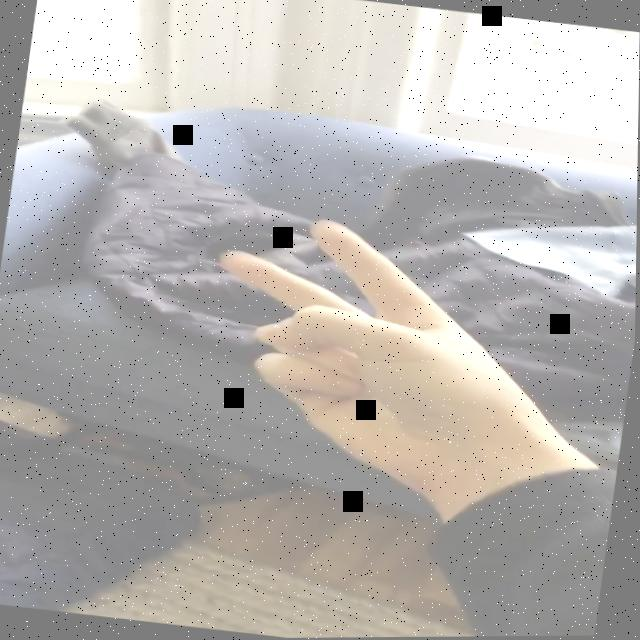Scissors: (190, 204, 580, 503)
